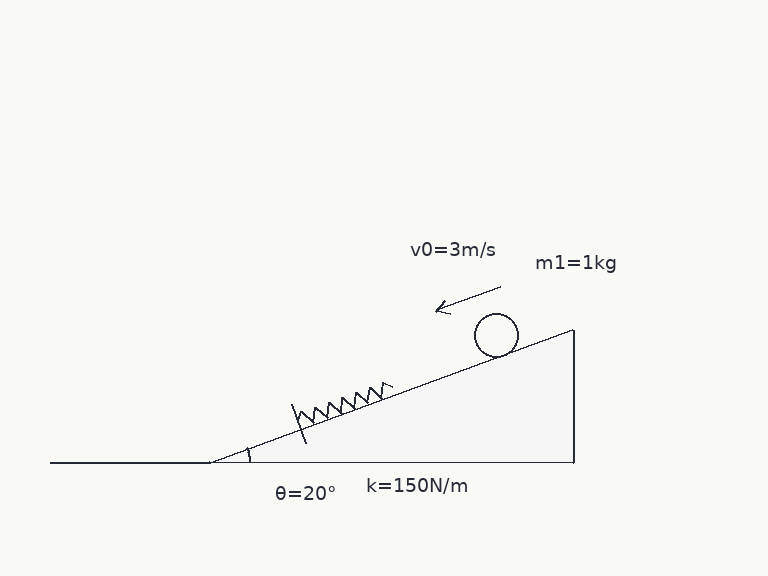ball: (472, 311, 520, 359)
ramp: (208, 328, 575, 464)
spring: (296, 380, 394, 424)
